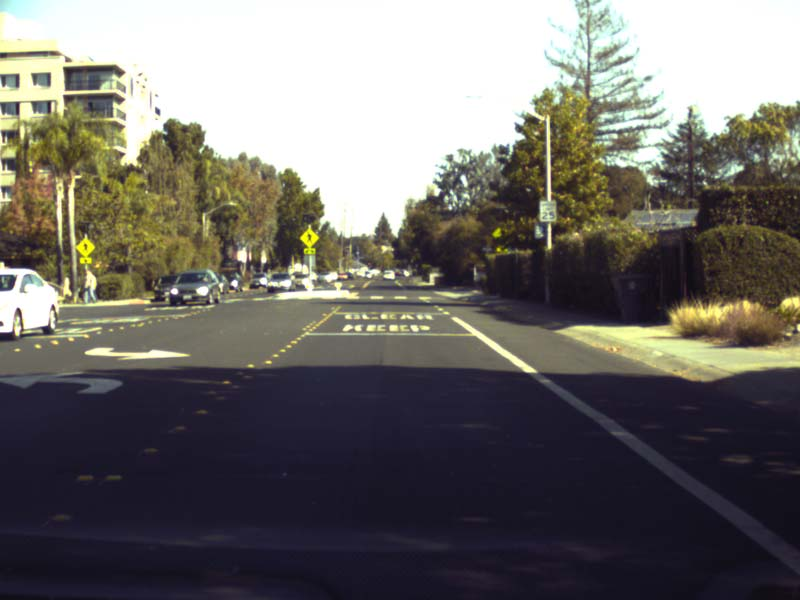Red: (368, 262, 370, 266)
